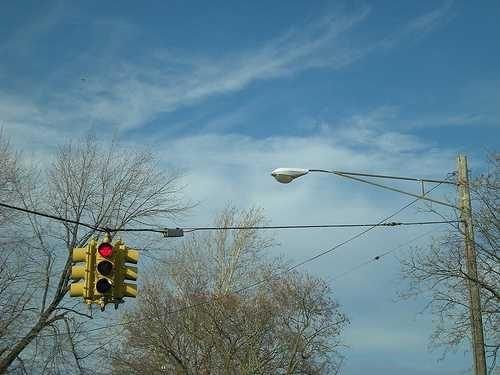red: (95, 237, 116, 298), (96, 238, 115, 258)
